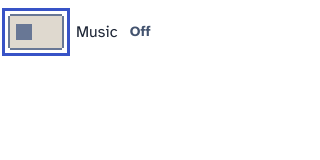
Scenario: Keyboard and ARIA checks › Switch: toggles aria-checked and On/Off label via keyboard Space and click
Check: the text "Off" is shown, box 130,23 -> 151,40
Type keys " "
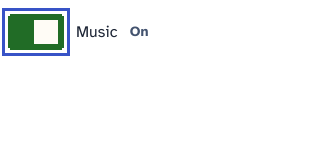
Check: the text "On" is shown, box 130,23 -> 148,40
Click the switch labelled "Music On" at point(36, 32), box 10,16 -> 62,48
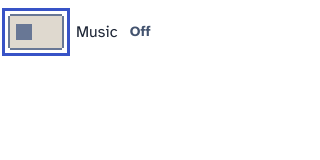
Check: the text "Off" is shown, box 130,23 -> 151,40
